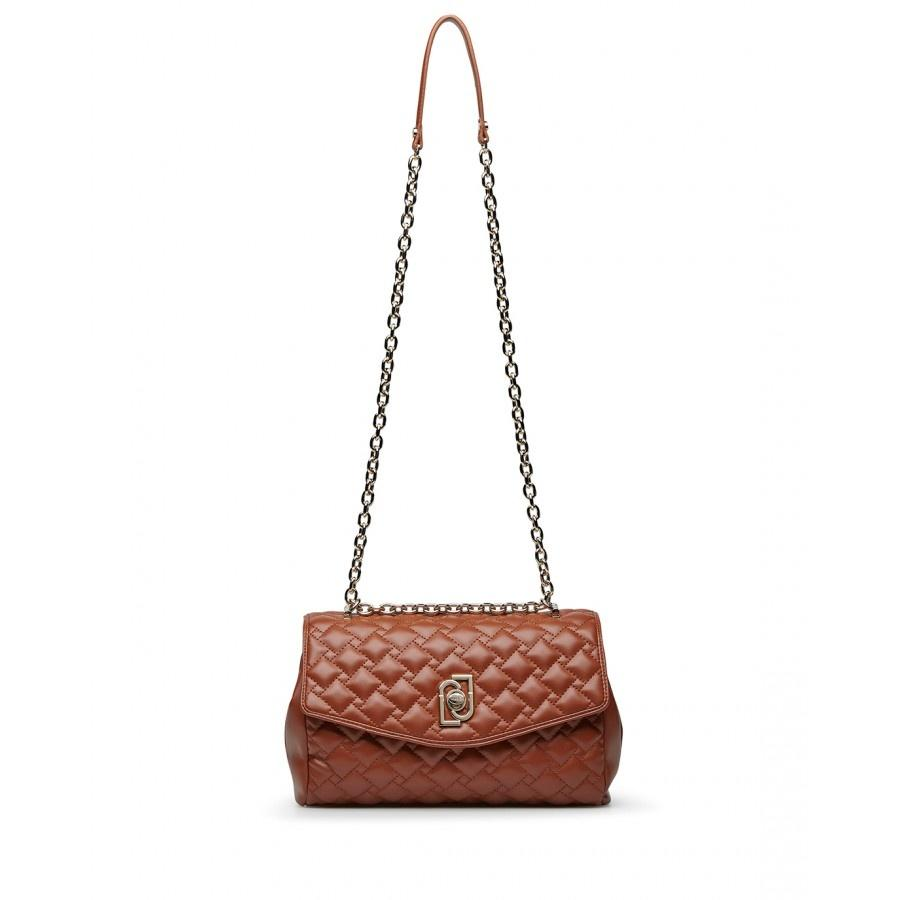LIU-JO: (439, 674, 475, 727)
